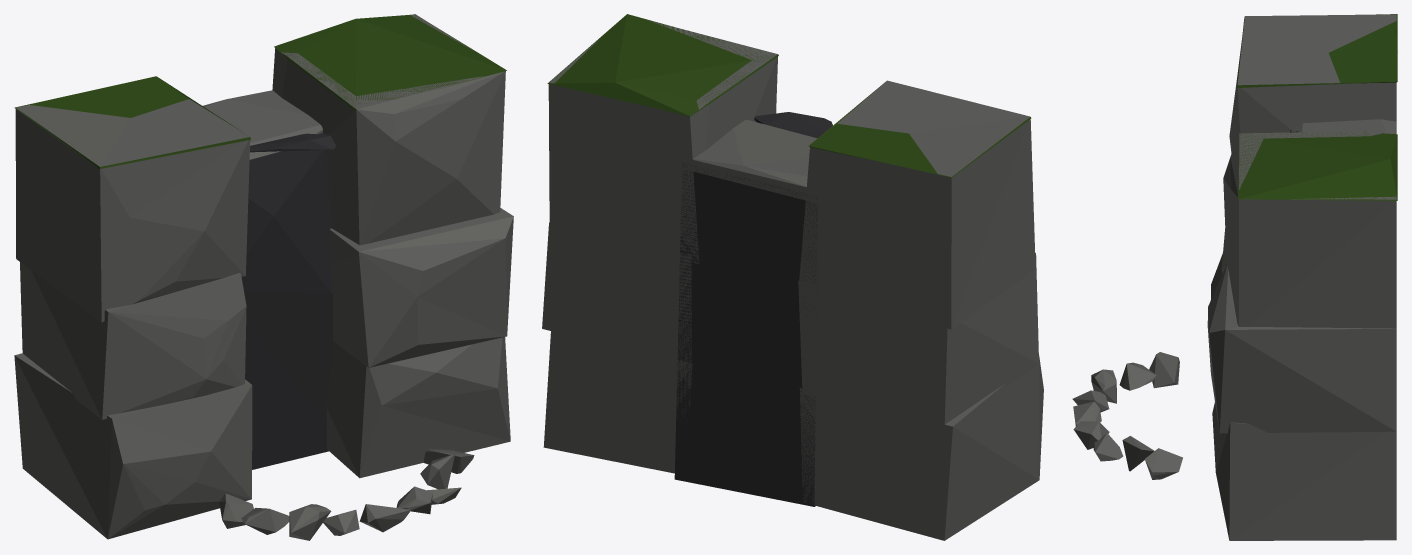
Rendered from roca_cascada.fbx.
3 views of the same model, side by side, from view 1: azimuth 30°, elevation 25°; view 2: azimuth 150°, elevation 25°; view 3: azimuth 270°, elevation 25° (orthographic). The views are drawn at different scales.
Parts seen in each view (by area): view 1: roca_cascada; view 2: roca_cascada; view 3: roca_cascada.
Boxes of the visible parts, box(x1,y1,x2,y2) form: roca_cascada: box(14, 14, 513, 540); roca_cascada: box(542, 14, 1043, 540); roca_cascada: box(1072, 14, 1397, 540).
Size of the model in its own units: 16.34 by 14.4 by 12.11.
